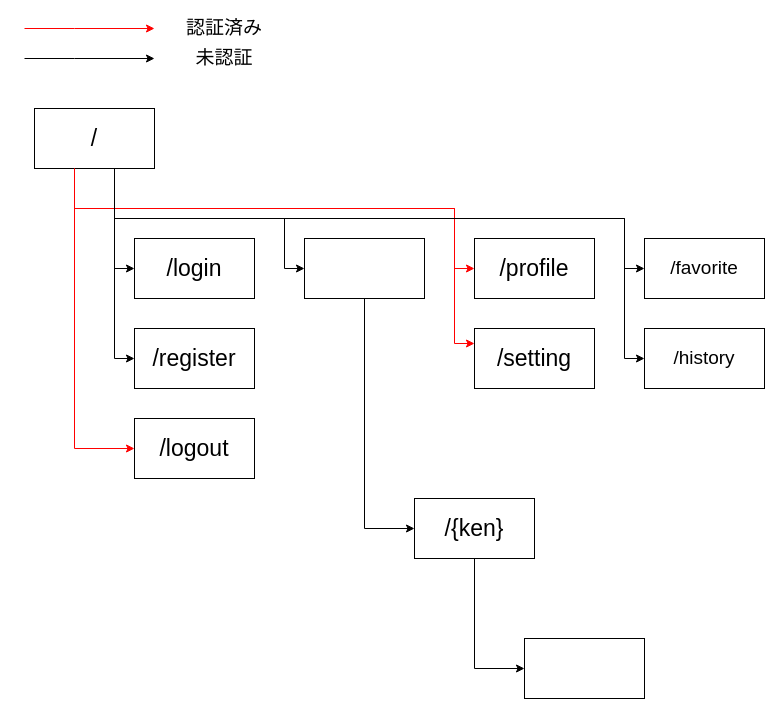
The diagram is 782 pixels wide and 716 high, and some of its shapes have lost their labels. Each missing label, with the centre of its shape:
"/search" goes at point 364,268.
"/{shi}" goes at point 584,668.
